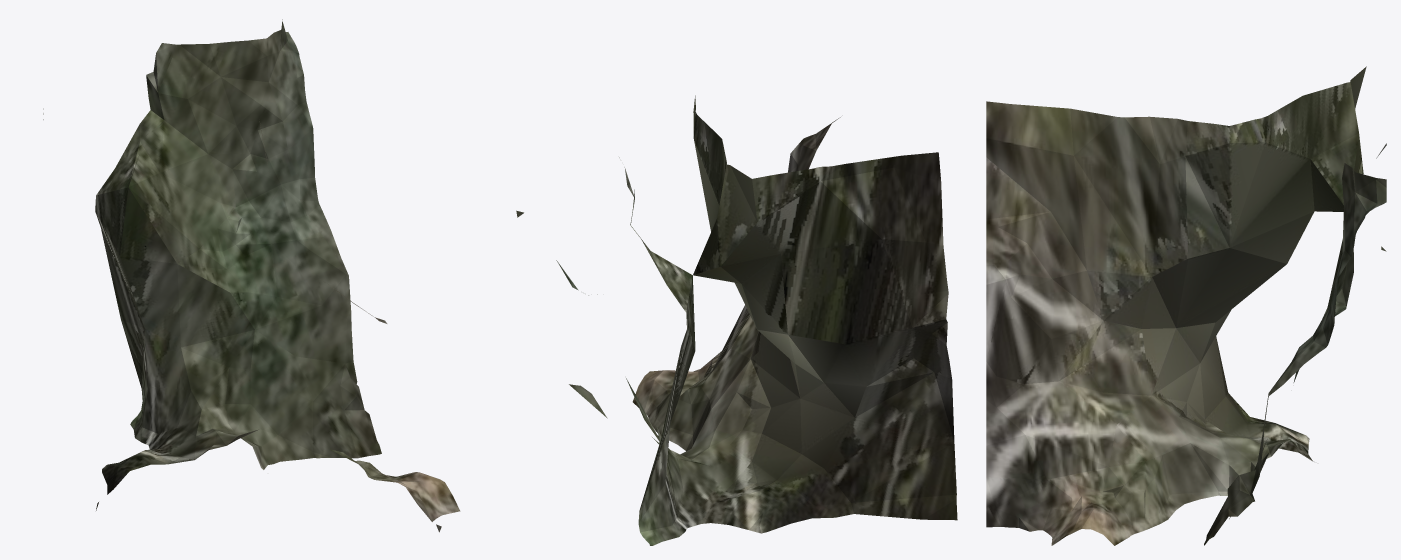
The picture shows the model from 3 angles, left to right: view 1: azimuth 30°, elevation 25°; view 2: azimuth 150°, elevation 25°; view 3: azimuth 270°, elevation 25°; orthographic projection. The views are drawn at different scales.
Bounding box in the file's own units: 2.95 × 2.95 × 2.95.
5 materials, 5 textured.
